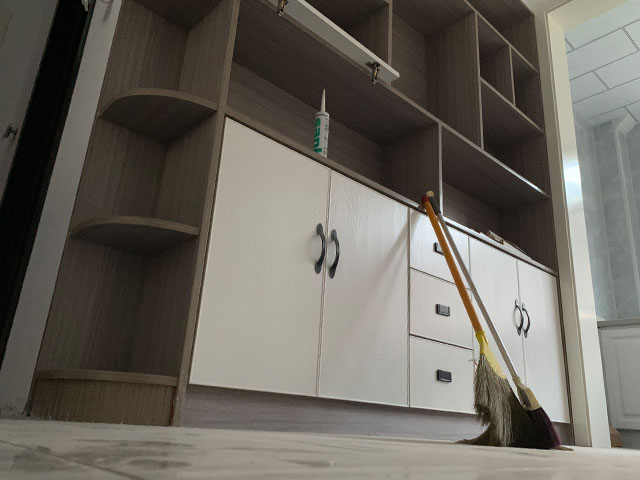cabinet: (190, 111, 576, 444)
